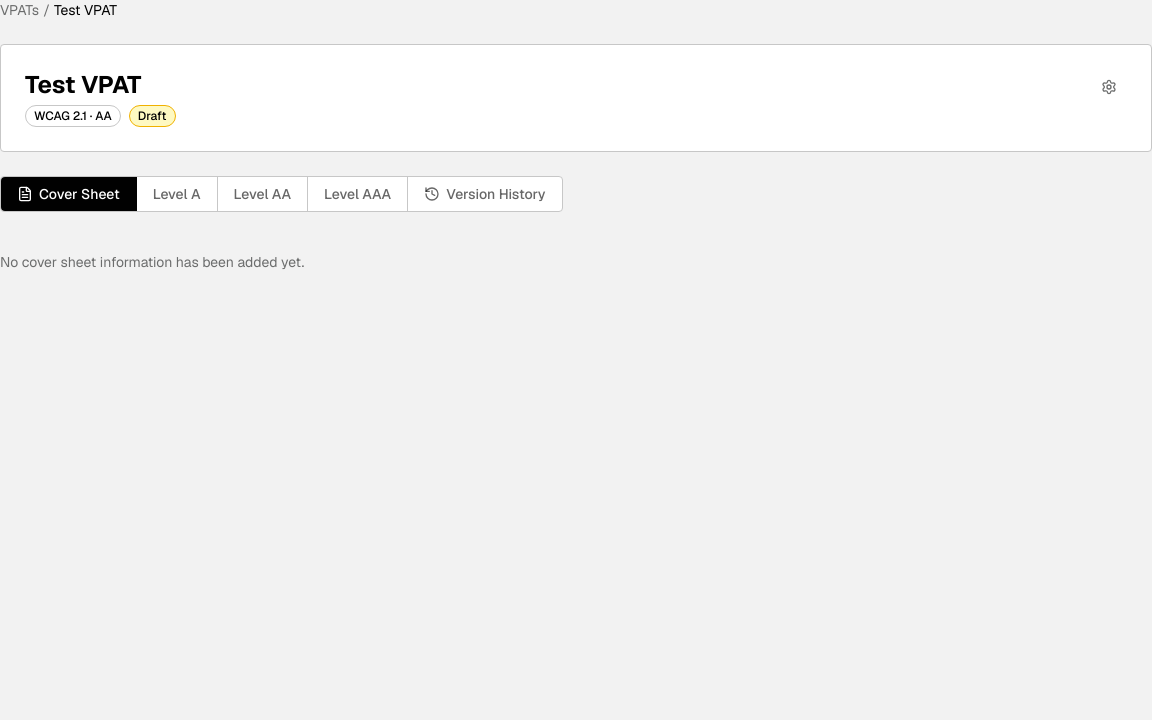
Scenario: VpatDetailPage (view) › clicking Publish on unreviewed VPAT shows not-ready modal
The image size is (1152, 720).
Click the button named "vpat settings" at (1109, 87), box [1091, 69, 1127, 105]
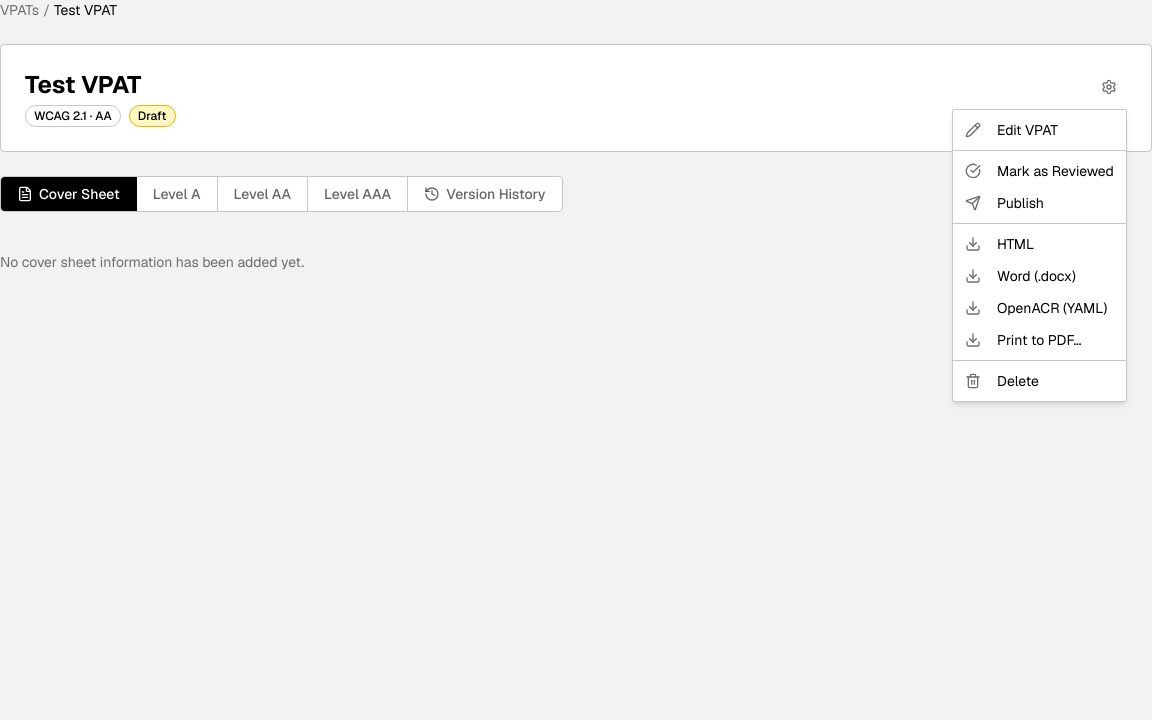
Click the menu item "Publish" at (1004, 203), box [965, 194, 1044, 212]
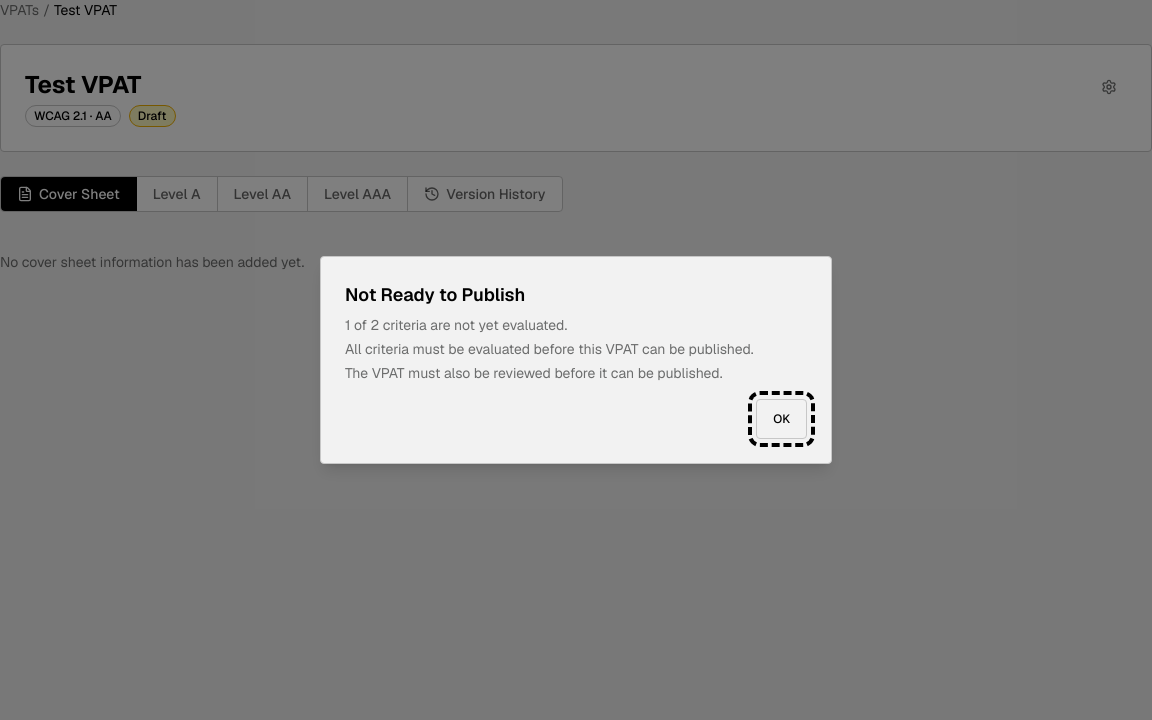
Result: the dialog is shown at [320, 256, 832, 464]
Result: the text "criteria must be evaluated" is shown at [345, 340, 754, 358]
